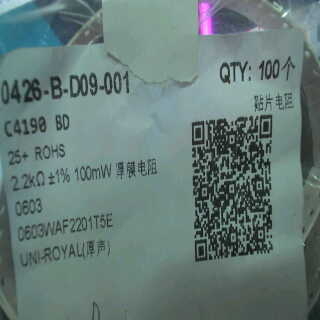2.2kR: (10, 168, 49, 195)
